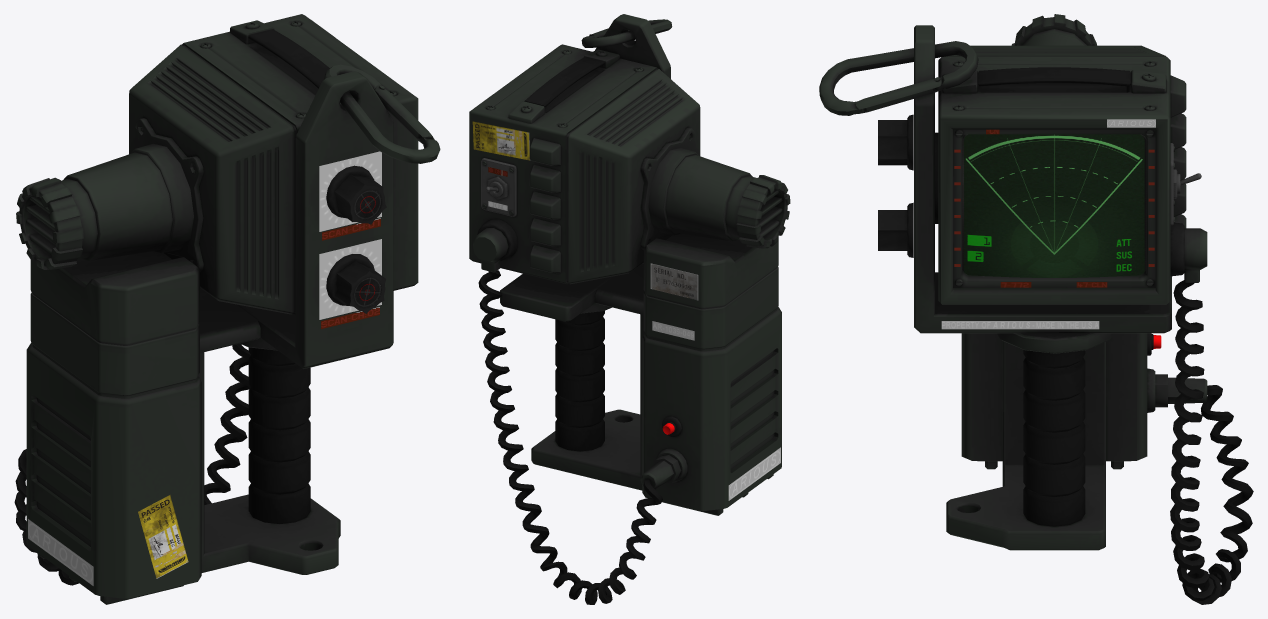
Rendered from motion_tracker.glb.
The picture shows the model from 3 angles, left to right: view 1: azimuth 30°, elevation 25°; view 2: azimuth 150°, elevation 25°; view 3: azimuth 270°, elevation 25°; orthographic projection. The views are drawn at different scales.
Parts seen in each view (by area): view 1: Object_5, Object_2; view 2: Object_5, Object_2; view 3: Object_5, Object_4, Object_2.
Part boxes in pixels (bbox=[...]): Object_5: bbox=[14, 14, 440, 604]; Object_2: bbox=[28, 20, 381, 585]; Object_5: bbox=[469, 14, 790, 604]; Object_2: bbox=[472, 94, 780, 500]; Object_5: bbox=[819, 14, 1253, 604]; Object_4: bbox=[962, 134, 1146, 277]; Object_2: bbox=[941, 119, 1155, 329].
Size of the model in its own units: 2.89 by 5.11 by 3.35.
Materials: 4 (3 with a texture image).
